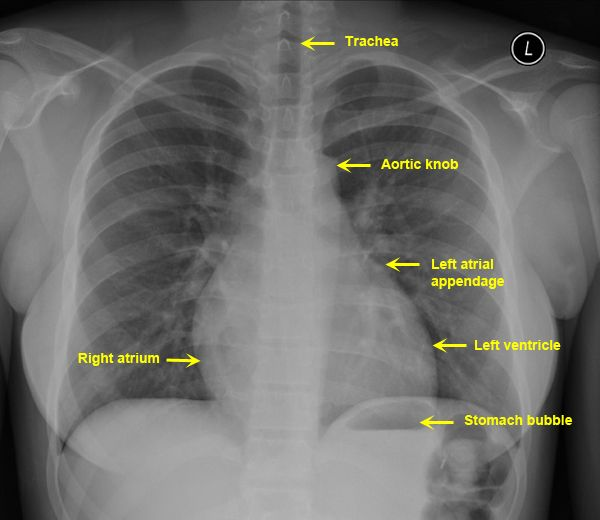telestration: (427, 255, 505, 290), (462, 412, 576, 429), (472, 336, 562, 354), (75, 350, 162, 368), (378, 156, 459, 171), (382, 256, 423, 274), (333, 158, 374, 174), (430, 336, 468, 353), (417, 415, 456, 431), (298, 35, 336, 51), (344, 36, 400, 46), (164, 353, 200, 367)
